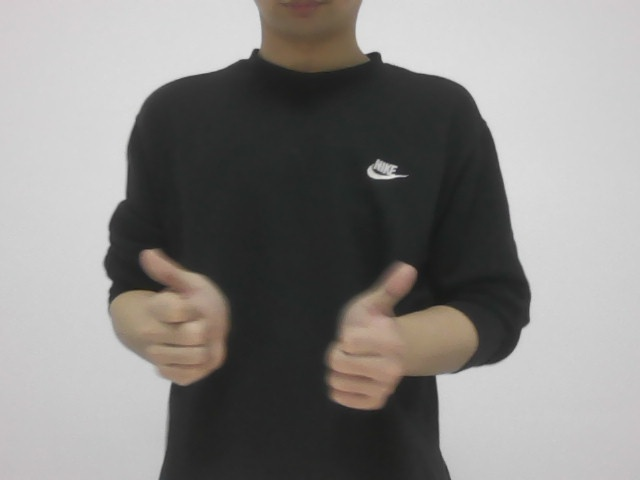friend: (123, 236, 416, 416)
